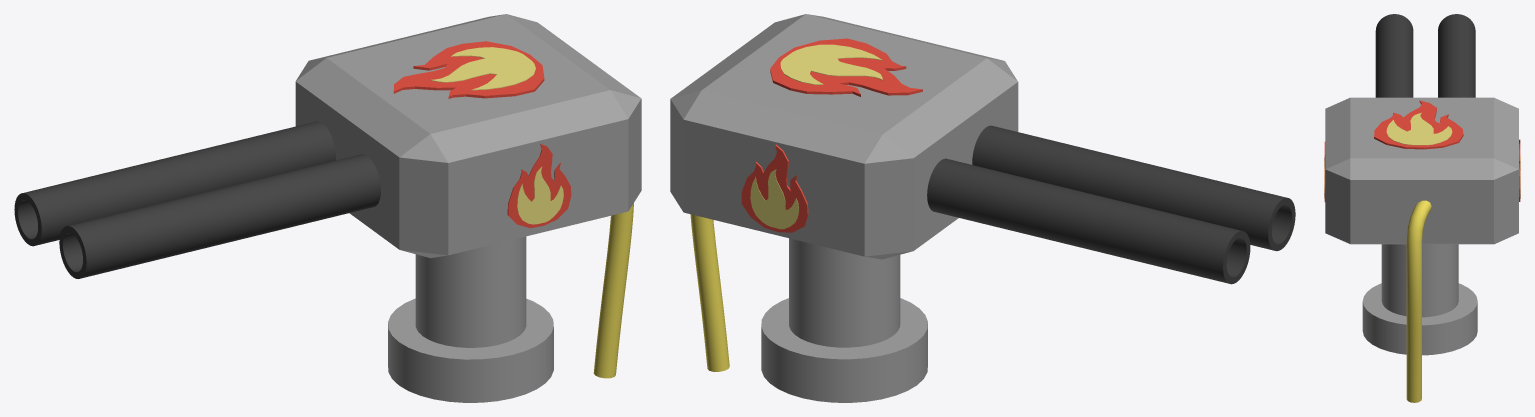
File: tile_flamethrower.fbx
3 views of the same model, side by side, from view 1: azimuth 30°, elevation 25°; view 2: azimuth 150°, elevation 25°; view 3: azimuth 270°, elevation 25° (orthographic). The views are drawn at different scales.
Parts seen in each view (by area): view 1: Cube, Cylinder, Cylinder.001, Cylinder.002, BezierCurve, Plane.004, Plane.005, Plane, Plane.001; view 2: Cube, Cylinder, Cylinder.002, Cylinder.001, Plane.004, BezierCurve, Plane.005, Plane.002, Plane.003; view 3: Cube, Cylinder, BezierCurve, Cylinder.001, Cylinder.002, Plane.004, Plane.005.
Boxes of the visible parts, bbox=[...] form: Cube: bbox=[295, 14, 641, 258]; Cylinder: bbox=[388, 236, 553, 402]; Cylinder.001: bbox=[59, 154, 380, 278]; Cylinder.002: bbox=[14, 121, 335, 246]; BezierCurve: bbox=[593, 203, 633, 378]; Plane.004: bbox=[393, 41, 544, 98]; Plane.005: bbox=[430, 47, 535, 90]; Plane: bbox=[507, 143, 571, 228]; Plane.001: bbox=[517, 166, 563, 224]; Cube: bbox=[670, 14, 1018, 259]; Cylinder: bbox=[761, 238, 927, 402]; Cylinder.002: bbox=[927, 158, 1250, 284]; Cylinder.001: bbox=[972, 125, 1295, 251]; Plane.004: bbox=[770, 38, 922, 96]; BezierCurve: bbox=[690, 214, 729, 371]; Plane.005: bbox=[780, 44, 882, 84]; Plane.002: bbox=[741, 144, 808, 232]; Plane.003: bbox=[750, 169, 798, 229]; Cube: bbox=[1325, 97, 1518, 244]; Cylinder: bbox=[1362, 244, 1477, 355]; BezierCurve: bbox=[1406, 200, 1431, 402]; Cylinder.001: bbox=[1375, 14, 1413, 97]; Cylinder.002: bbox=[1438, 14, 1475, 97]; Plane.004: bbox=[1374, 100, 1463, 149]; Plane.005: bbox=[1386, 112, 1452, 145].
Bounding box in the file's own units: 475 × 263 × 203.
